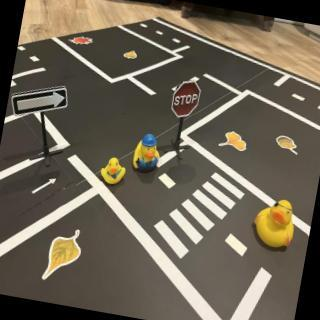duck_regular: (100, 154, 130, 190)
duck_specialty: (250, 193, 302, 255), (131, 130, 165, 179)
road_crosswalk: (144, 158, 255, 277)
road_oneway: (30, 171, 61, 201)
sign_oneway_right: (7, 75, 73, 128)
